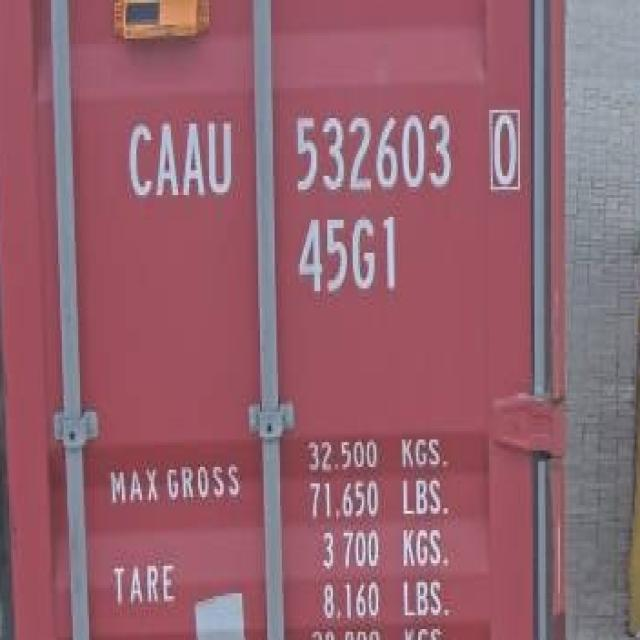dv: (481, 102, 526, 197)
owner: (119, 111, 238, 205)
serial: (284, 103, 458, 202)
size: (291, 210, 408, 302)
